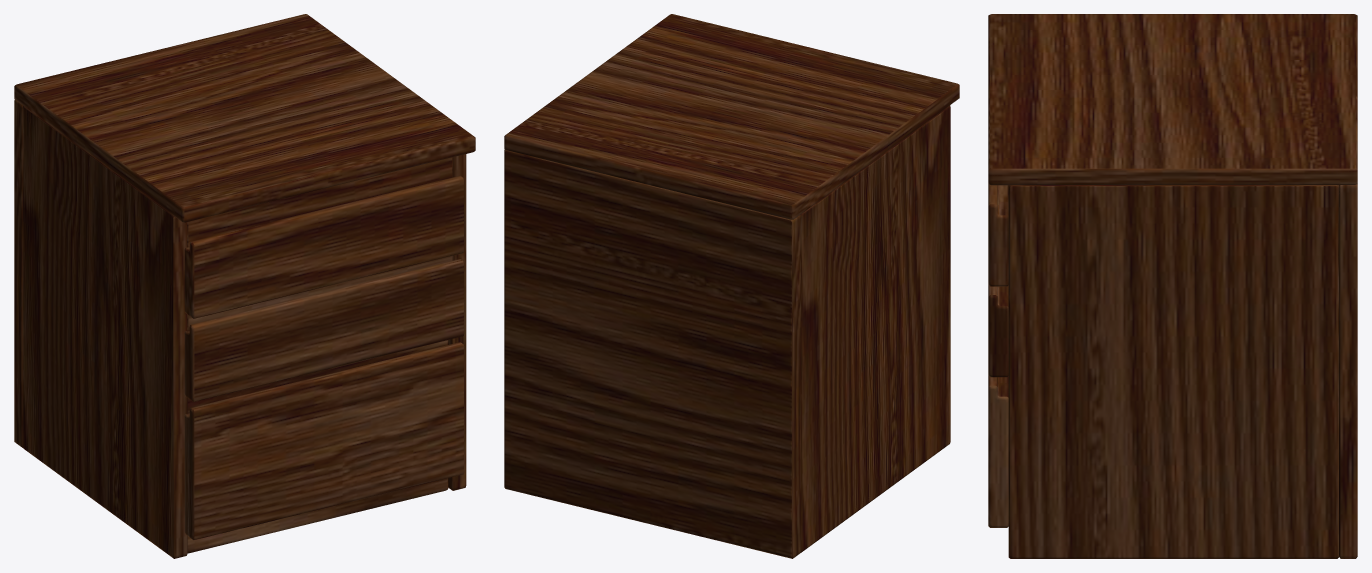
File: Drawer_1.glb
3 views of the same model, side by side, from view 1: azimuth 30°, elevation 25°; view 2: azimuth 150°, elevation 25°; view 3: azimuth 270°, elevation 25° (orthographic). The views are drawn at different scales.
Visible parts, largest first — view 1: structure_003_mesh_n3d, structure_001_mesh_n3d, drawer_011_mesh_n3d, drawer_006_mesh_n3d, drawer_001_mesh_n3d, structure_007_mesh_n3d, structure_006_mesh_n3d, structure_004_mesh_n3d, structure_008_mesh_n3d, structure_002_mesh_n3d, structure_005_mesh_n3d; view 2: structure_004_mesh_n3d, structure_001_mesh_n3d, structure_003_mesh_n3d; view 3: structure_008_mesh_n3d, structure_001_mesh_n3d, structure_004_mesh_n3d, drawer_011_mesh_n3d, drawer_001_mesh_n3d, drawer_006_mesh_n3d.
Boxes of the visible parts, x1=… form: structure_003_mesh_n3d: x1=22, y1=106, x2=187, y2=558; structure_001_mesh_n3d: x1=14, y1=14, x2=475, y2=222; drawer_011_mesh_n3d: x1=184, y1=342, x2=464, y2=540; drawer_006_mesh_n3d: x1=184, y1=259, x2=464, y2=401; drawer_001_mesh_n3d: x1=184, y1=175, x2=464, y2=318; structure_007_mesh_n3d: x1=187, y1=157, x2=452, y2=247; structure_006_mesh_n3d: x1=187, y1=478, x2=448, y2=553; structure_004_mesh_n3d: x1=14, y1=100, x2=22, y2=447; structure_008_mesh_n3d: x1=448, y1=154, x2=466, y2=490; structure_002_mesh_n3d: x1=187, y1=256, x2=452, y2=330; structure_005_mesh_n3d: x1=187, y1=340, x2=448, y2=413; structure_004_mesh_n3d: x1=504, y1=149, x2=800, y2=558; structure_001_mesh_n3d: x1=504, y1=14, x2=959, y2=219; structure_003_mesh_n3d: x1=800, y1=105, x2=950, y2=552; structure_008_mesh_n3d: x1=1008, y1=185, x2=1338, y2=558; structure_001_mesh_n3d: x1=988, y1=14, x2=1357, y2=185; structure_004_mesh_n3d: x1=1339, y1=184, x2=1357, y2=558; drawer_011_mesh_n3d: x1=988, y1=376, x2=1008, y2=527; drawer_001_mesh_n3d: x1=988, y1=184, x2=1008, y2=286; drawer_006_mesh_n3d: x1=988, y1=285, x2=1008, y2=377.
Size of the model in its own units: 0.2571 by 0.3 by 0.2571.
Materials: 1 (1 with a texture image).
